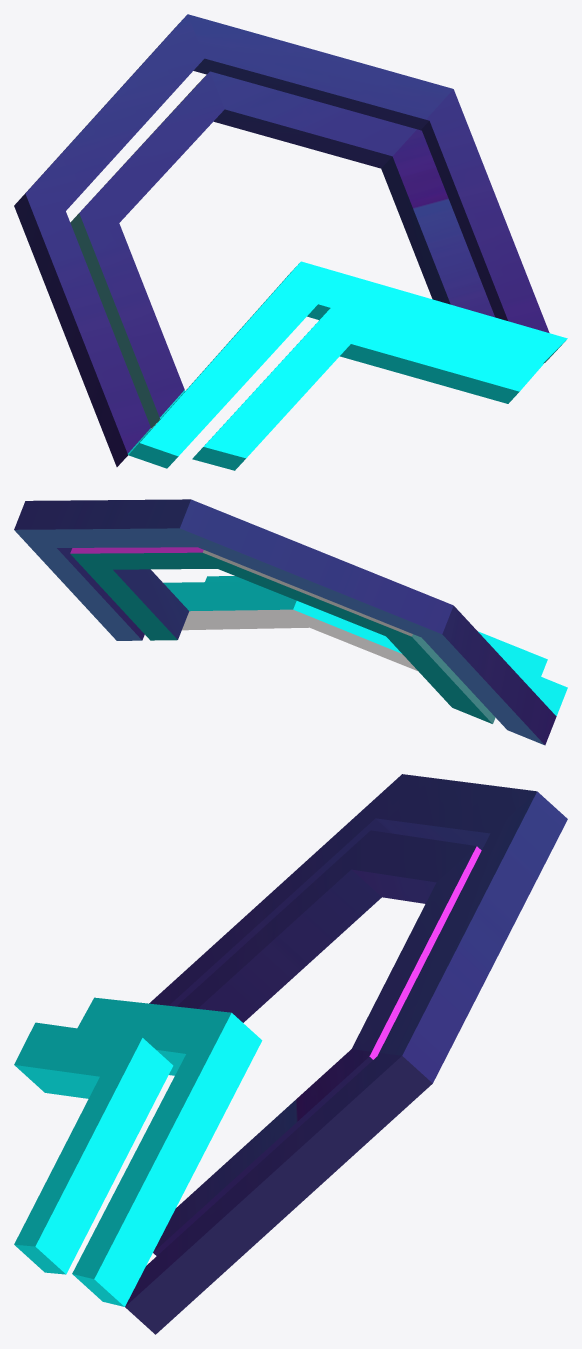
File: Vertical4.gltf
3 renders of one model, top to bottom at view 1: azimuth 30°, elevation 25°; view 2: azimuth 150°, elevation 25°; view 3: azimuth 270°, elevation 25°, orthographic. The views are drawn at different scales.
Bounding box in the file's own units: 7.68 × 5.11 × 6.38.
13 materials, 1 textured.
